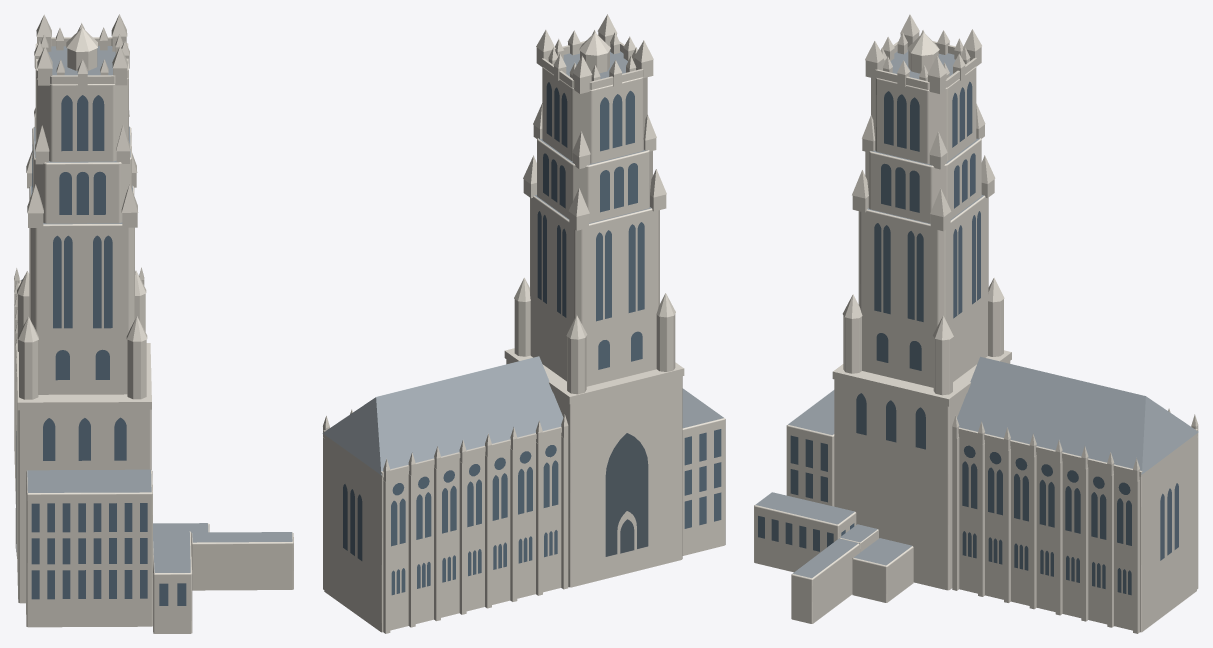
3 views of the same model, side by side, from view 1: azimuth 30°, elevation 25°; view 2: azimuth 150°, elevation 25°; view 3: azimuth 270°, elevation 25° (orthographic). The views are drawn at different scales.
Visible parts, largest first — view 1: the-riverside-church; view 2: the-riverside-church; view 3: the-riverside-church.
Part boxes in pixels (x1=…): the-riverside-church: x1=14, y1=14, x2=293, y2=633; the-riverside-church: x1=322, y1=14, x2=725, y2=633; the-riverside-church: x1=754, y1=14, x2=1198, y2=633.
Size of the model in its own units: 65.63 by 127 by 98.
